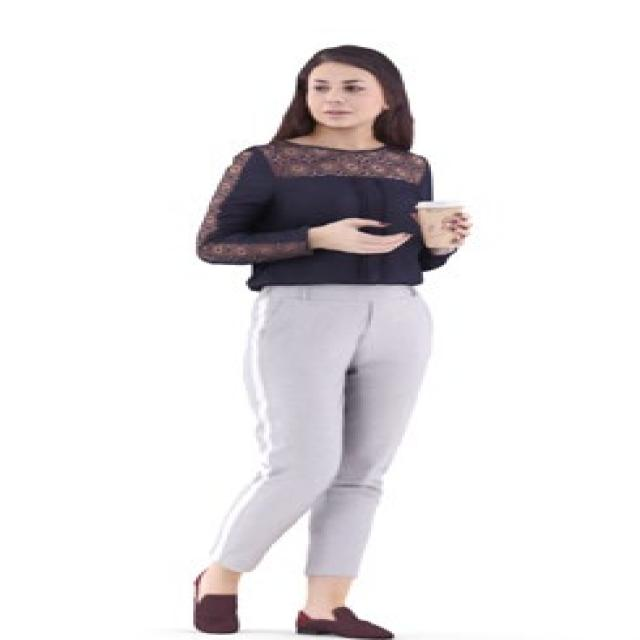standing: (184, 44, 473, 638)
